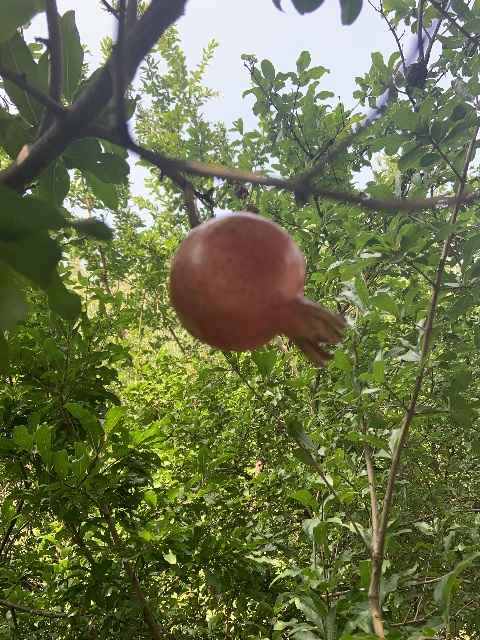ripe: (168, 214, 345, 365)
